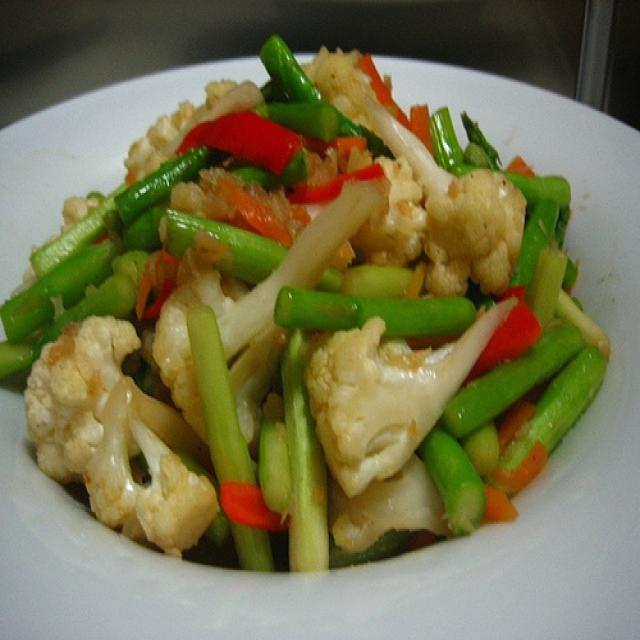蔬菜料理: (11, 39, 635, 608)
